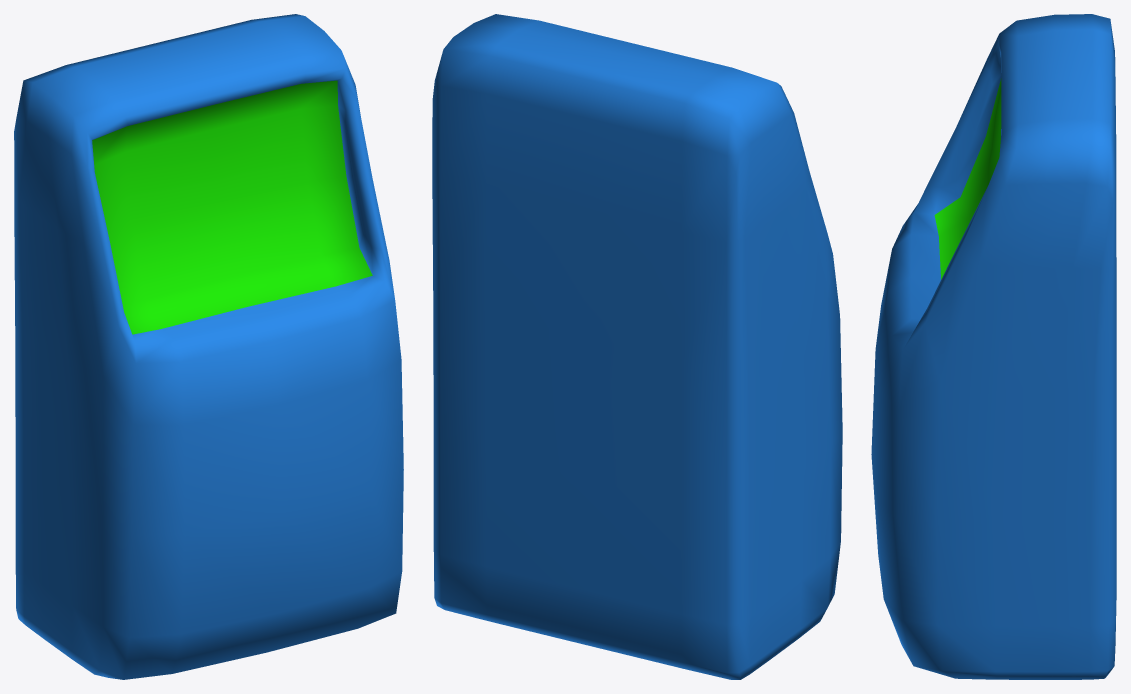
File: Atm.fbx
3 renders of one model, left to right at view 1: azimuth 30°, elevation 25°; view 2: azimuth 150°, elevation 25°; view 3: azimuth 270°, elevation 25°, orthographic. The views are drawn at different scales.
Parts seen in each view (by area): view 1: Cube.008; view 2: Cube.008; view 3: Cube.008.
Boxes of the visible parts, box(x1,y1,x2,y2) form: Cube.008: box(14, 14, 403, 679); Cube.008: box(432, 14, 842, 679); Cube.008: box(871, 14, 1116, 679).
Size of the model in its own units: 63.35 by 112 by 46.44.
